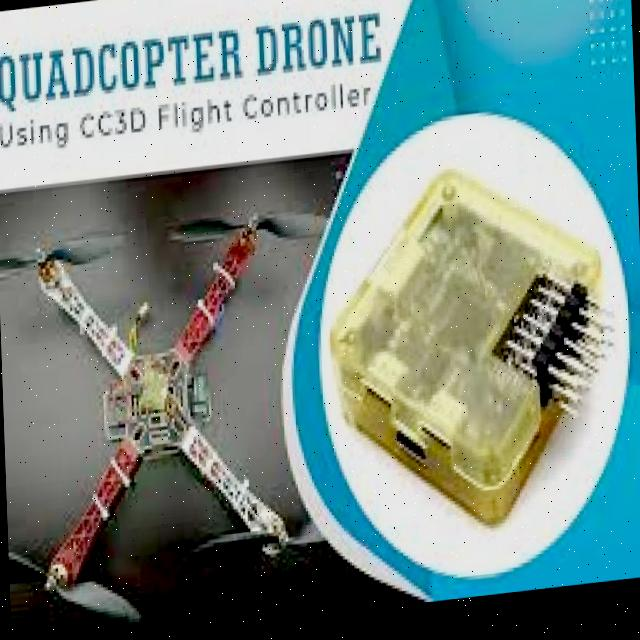drone: (0, 188, 341, 640)
